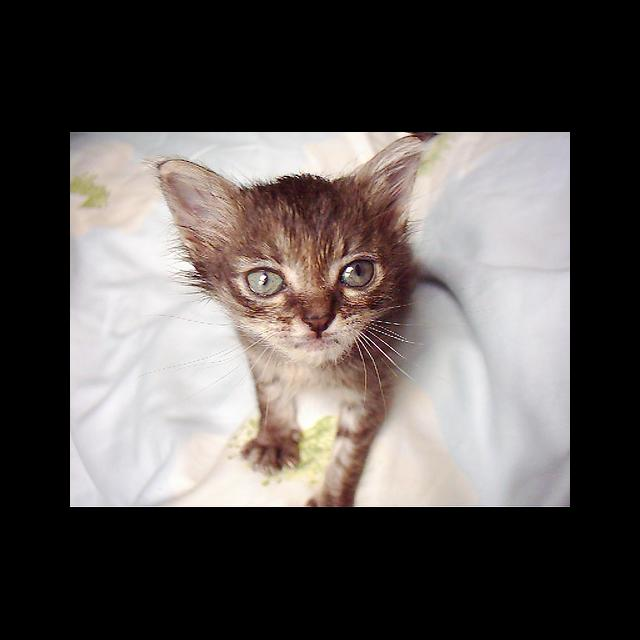animals: (161, 138, 419, 328)
